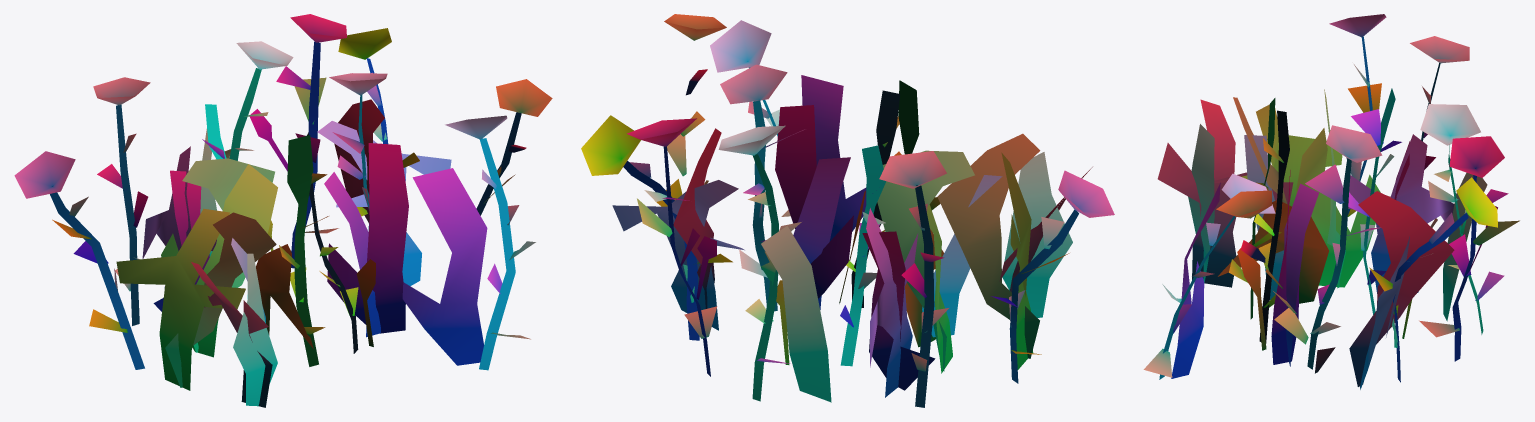
Rendered from Matted_Pratia_uegjcflia_Mid_uegjcflia_VarG_LOD1.fbx.
The picture shows the model from 3 angles, left to right: view 1: azimuth 30°, elevation 25°; view 2: azimuth 150°, elevation 25°; view 3: azimuth 270°, elevation 25°; orthographic projection. The views are drawn at different scales.
Parts seen in each view (by area): view 1: _d1a8_VarG_LOD2; view 2: _d1a8_VarG_LOD2; view 3: _d1a8_VarG_LOD2.
Boxes of the visible parts, left/top/right/bottom form: _d1a8_VarG_LOD2: left=14, top=14, right=552, bottom=407; _d1a8_VarG_LOD2: left=581, top=14, right=1114, bottom=407; _d1a8_VarG_LOD2: left=1143, top=14, right=1519, bottom=389.
Bounding box in the file's own units: 17.79 × 8.88 × 12.72.
